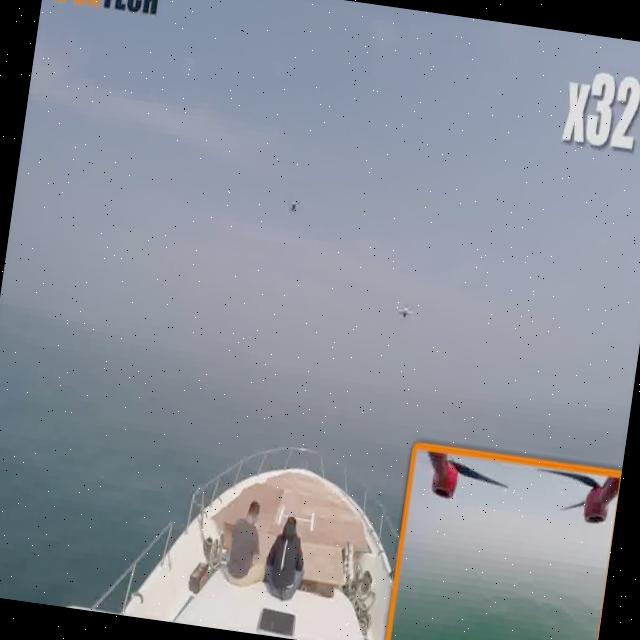drone: (281, 192, 307, 228), (393, 294, 416, 324)
